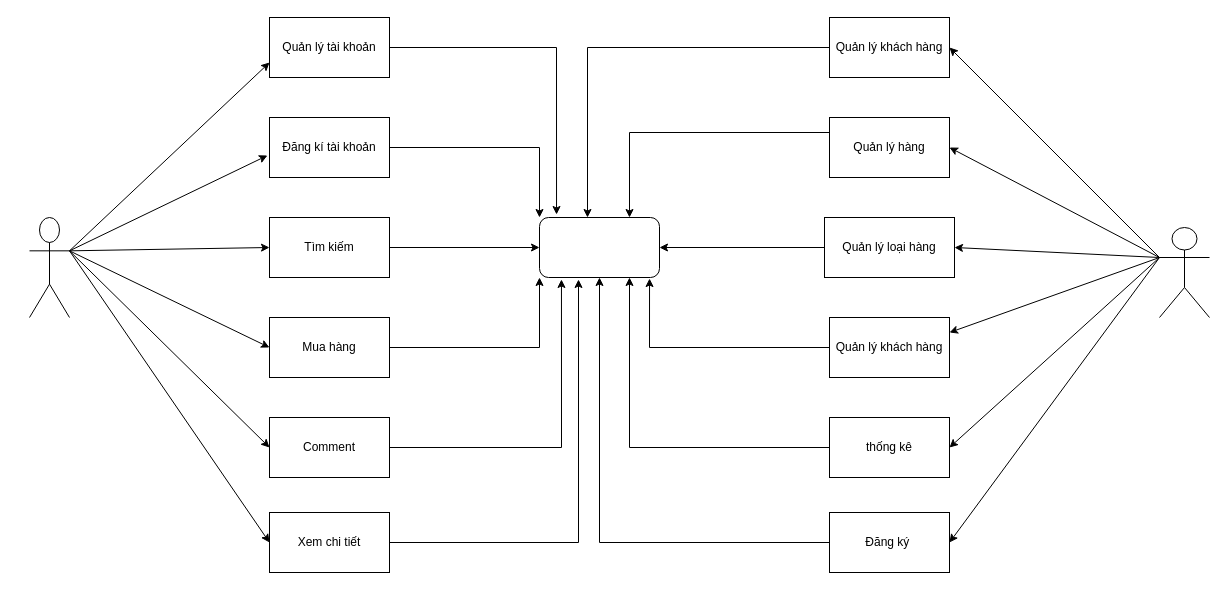
Some shapes in this 1227 by 590 pixel diagram are drawn without their labels. The centre of each missing label's shape, as x and y in pixels:
"Admin" goes at point 1184,272.
"Khách hàng" goes at point 49,267.
"Đăng nhập" goes at point 599,247.
